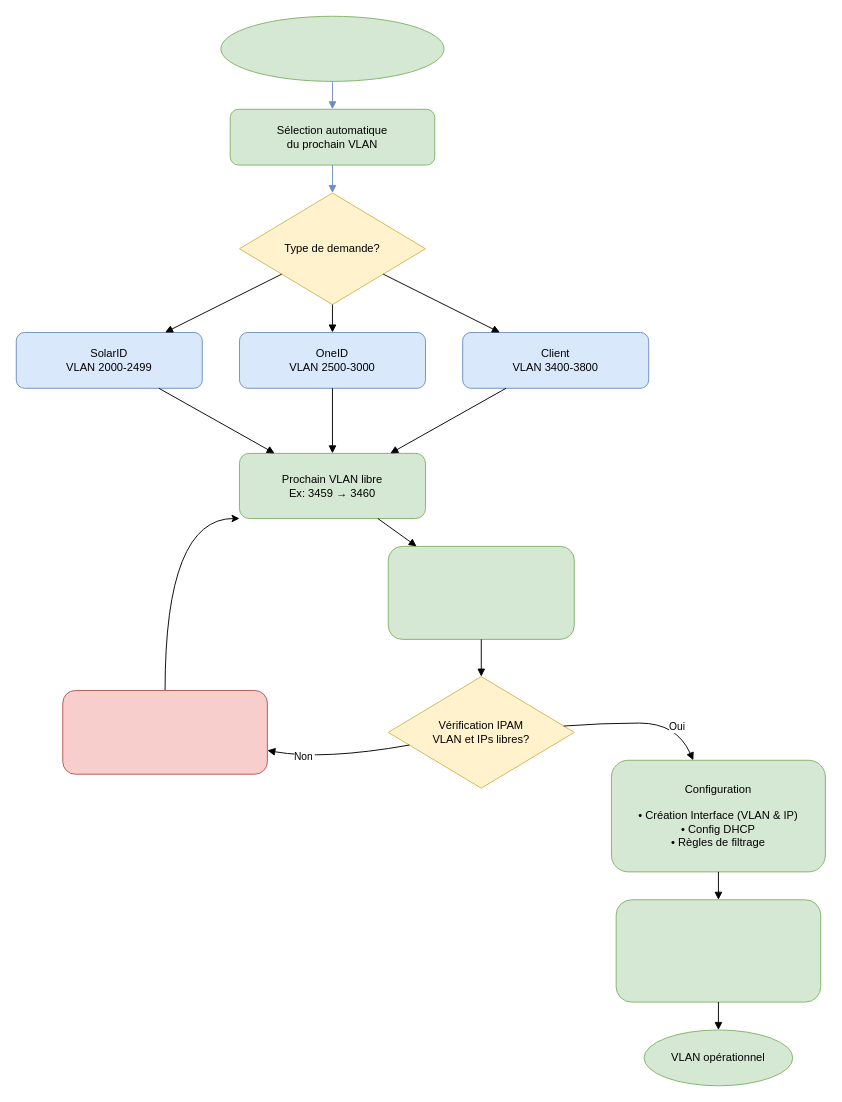
The diagram is 842 pixels wide and 1102 high, and some of its shapes have lost their labels. Here are the shapes that lost their labels. From the top down, the box of each, then its label:
(220, 15, 444, 81): Demande création VLAN Client/OneID/SolarID
(387, 545, 574, 639): Attribution IP séquentielle Ex: 192.168.115.64/30 → 192.168.115.68/30
(62, 690, 267, 774): Conflit détecté Sélectionner VLAN/IP suivant
(615, 899, 821, 1002): Mise à jour IPAM • VLAN assigné • Plage IP réservée
